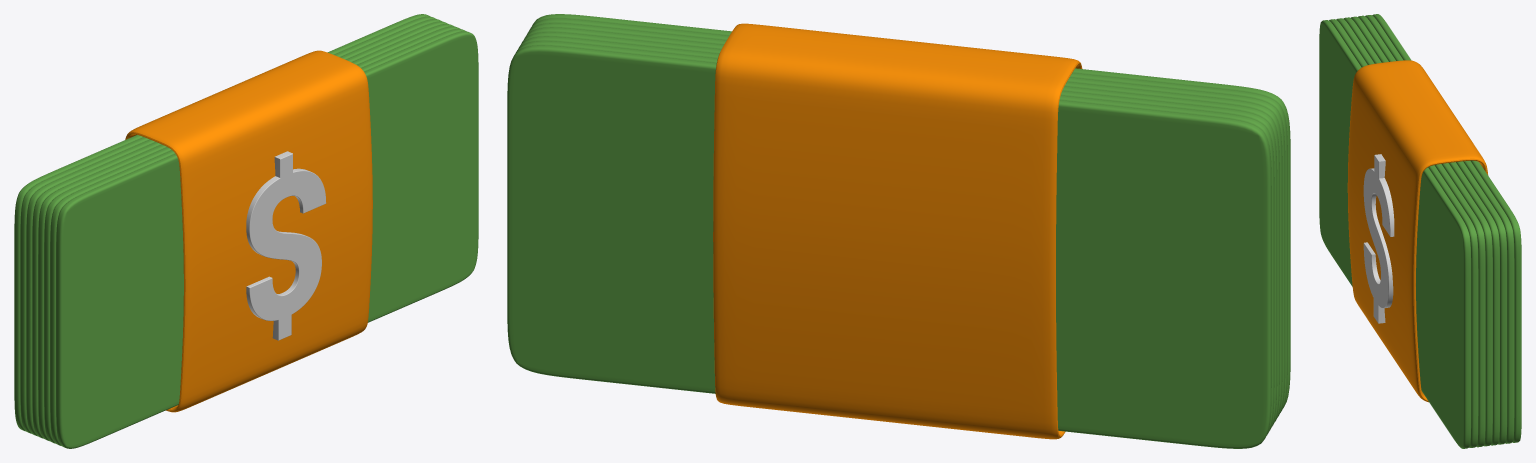
Rendered from money.glb.
The picture shows the model from 3 angles, left to right: view 1: azimuth 30°, elevation 25°; view 2: azimuth 150°, elevation 25°; view 3: azimuth 270°, elevation 25°; orthographic projection. The views are drawn at different scales.
Parts seen in each view (by area): view 1: Plane.006; view 2: Plane.006; view 3: Plane.006.
Part boxes in pixels (x1=…): Plane.006: x1=14, y1=14, x2=478, y2=448; Plane.006: x1=507, y1=14, x2=1290, y2=448; Plane.006: x1=1319, y1=14, x2=1521, y2=448.
Size of the model in its own units: 1.99 by 1 by 0.7553.
